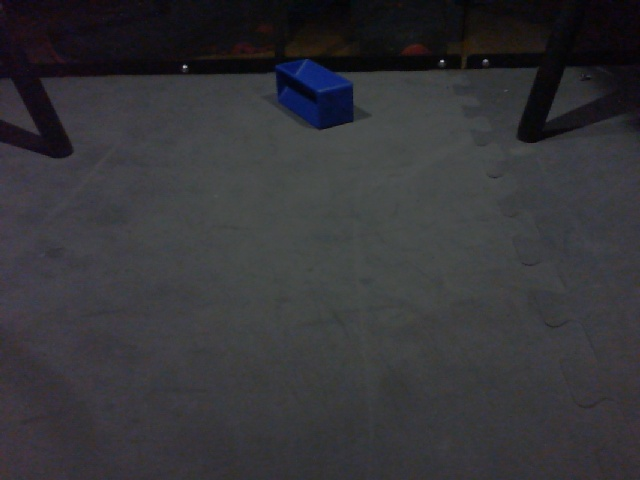BlueSample: (270, 56, 357, 133)
